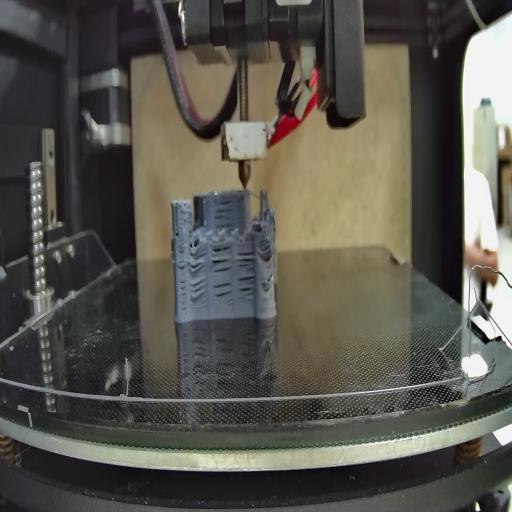cracks: (213, 198, 236, 230), (211, 245, 234, 271), (213, 280, 235, 303), (188, 247, 206, 275), (238, 274, 256, 300), (179, 252, 186, 314), (236, 247, 254, 268), (190, 280, 207, 302), (263, 242, 273, 261), (266, 267, 274, 286), (175, 226, 180, 242)
